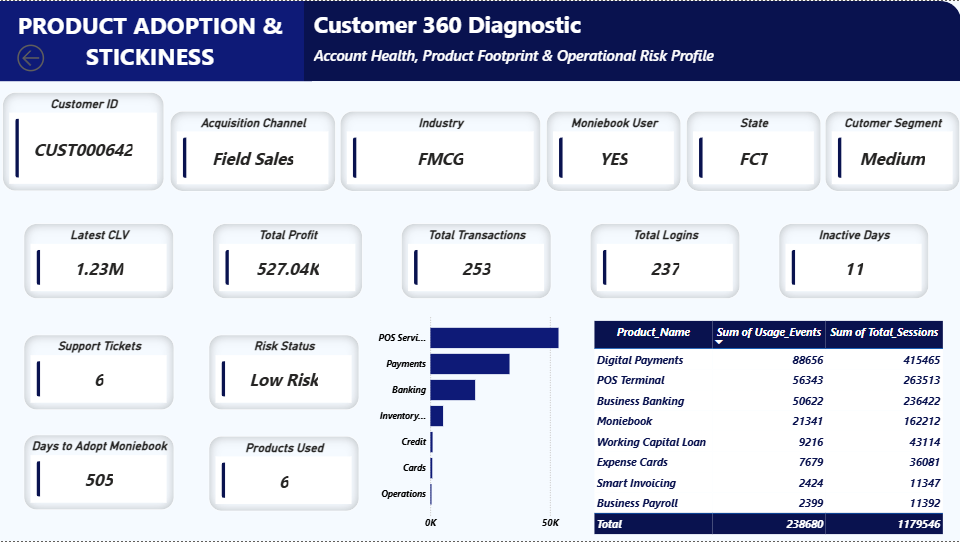

Layout of this report page (visuals, bound fields, positions):
{"tool":"powerbi","page":{"name":"Customer 360","canvas":[1920,1080],"ordinal":9},"visuals":[{"type":"group","id":"g1","title":"Group 1","box":[0,0,1921.1,160.5],"z":0},{"type":"actionButton","box":[26.8,80.3,129.7,67.9],"z":1000},{"type":"cardVisual","title":"Customer ID","fields":{"Data":["pbi_customer_360.Selected Customer ID"]},"box":[6.2,183.2,323.2,197.6],"z":2000},{"type":"cardVisual","title":"State","fields":{"Data":["pbi_customer_360.Selected State"]},"box":[1371.3,220.2,269.6,160.5],"z":3000},{"type":"cardVisual","title":"Cutomer Segment","fields":{"Data":["pbi_customer_360.Selected Customer Segment"]},"box":[1650.4,220.2,269.6,160.5],"z":4000},{"type":"cardVisual","title":"Industry","fields":{"Data":["pbi_customer_360.Selected Industry"]},"box":[680.5,220.2,401.4,160.5],"z":5000},{"type":"cardVisual","title":"Acquisition Channel","fields":{"Data":["pbi_customer_360.Selected Acquisition Channel"]},"box":[339.2,220.2,331.4,160.5],"z":6000},{"type":"cardVisual","title":"Moniebook User","fields":{"Data":["pbi_customer_360.Selected Moniebook User"]},"box":[1091.7,220.2,269.6,160.5],"z":7000},{"type":"cardVisual","title":"Latest CLV","fields":{"Data":["Sum(pbi_customer_360.Latest_CLV)"]},"box":[47.8,445.4,300,150],"z":8000},{"type":"cardVisual","title":"Inactive Days","fields":{"Data":["pbi_customer_360.Latest Inactivity Days"]},"box":[1558.2,444.6,300,150],"z":9000},{"type":"cardVisual","title":"Total Logins","fields":{"Data":["Sum(pbi_customer_360.Total_Logins)"]},"box":[1180.6,444.6,300,150],"z":10000},{"type":"cardVisual","title":"Total Transactions","fields":{"Data":["Sum(pbi_customer_360.Total_Transaction_Records)"]},"box":[803,444.6,300,150],"z":11000},{"type":"cardVisual","title":"Total Profit","fields":{"Data":["Sum(pbi_customer_360.Total_Profit)"]},"box":[425.4,444.6,300,150],"z":12000},{"type":"tableEx","fields":{"Values":["pbi_product_performance.Product_Name","Sum(pbi_product_performance.Usage_Events)","Sum(pbi_product_performance.Total_Sessions)"]},"box":[1181.5,634,710.1,446.7],"z":13000},{"type":"clusteredBarChart","fields":{"Category":["pbi_product_performance.Product_Category"],"Y":["Sum(pbi_product_performance.Feature_Failed_Transactions)"]},"box":[738.9,619.6,430.2,446.7],"z":14000},{"type":"cardVisual","title":"Support Tickets","fields":{"Data":["Sum(pbi_customer_360.Support_Tickets)"]},"box":[47.3,666.9,300.5,150.3],"z":15000},{"type":"cardVisual","title":"Days to Adopt Moniebook","fields":{"Data":["pbi_customer_360.Avg Days to Adopt Moniebook"]},"box":[47.3,868.6,300.5,150.3],"z":16000},{"type":"cardVisual","title":"Risk Status","fields":{"Data":["pbi_customer_360.Selected Risk Status"]},"box":[417.8,666.9,300.5,150.3],"z":17000},{"type":"shape","box":[0,0,622.9,160.4],"z":18000,"group":"g1"},{"type":"cardVisual","title":"Products Used","fields":{"Data":["Sum(pbi_customer_360.Latest_Products_Used)"]},"box":[417.8,870.7,300.5,150.3],"z":18000},{"type":"shape","box":[606.2,0.6,1314.6,160.4],"z":20000,"group":"g1"},{"type":"textbox","title":"PRODUCT ADOPTION & STICKINESS","box":[6.2,14.6,585.4,131.2],"z":21000,"group":"g1"},{"type":"textbox","title":"Customer 360 Diagnostic","box":[622.9,14.6,570.8,97.9],"z":22000,"group":"g1"},{"type":"textbox","title":"Account Health, Product Footprint & Operational Risk Profile","box":[622.9,87.5,1183.3,72.9],"z":23000,"group":"g1"}]}

Visuals, with their boxes in screenshot pixels (x1, y1, x2, y2), scaled from the page's 1920x1080 canvas onto the 960x542 screenshot:
"Group 1" group: {"x1": 0, "y1": 0, "x2": 959, "y2": 81}
actionButton: {"x1": 13, "y1": 40, "x2": 78, "y2": 74}
"Customer ID" cardVisual: {"x1": 3, "y1": 92, "x2": 165, "y2": 191}
"State" cardVisual: {"x1": 686, "y1": 111, "x2": 820, "y2": 191}
"Cutomer Segment" cardVisual: {"x1": 825, "y1": 111, "x2": 959, "y2": 191}
"Industry" cardVisual: {"x1": 340, "y1": 111, "x2": 541, "y2": 191}
"Acquisition Channel" cardVisual: {"x1": 170, "y1": 111, "x2": 335, "y2": 191}
"Moniebook User" cardVisual: {"x1": 546, "y1": 111, "x2": 681, "y2": 191}
"Latest CLV" cardVisual: {"x1": 24, "y1": 224, "x2": 174, "y2": 299}
"Inactive Days" cardVisual: {"x1": 779, "y1": 223, "x2": 929, "y2": 298}
"Total Logins" cardVisual: {"x1": 590, "y1": 223, "x2": 740, "y2": 298}
"Total Transactions" cardVisual: {"x1": 402, "y1": 223, "x2": 552, "y2": 298}
"Total Profit" cardVisual: {"x1": 213, "y1": 223, "x2": 363, "y2": 298}
tableEx - pbi_product_performance.Product_Name x Sum(pbi_product_performance.Usage_Events): {"x1": 591, "y1": 318, "x2": 946, "y2": 541}
clusteredBarChart - pbi_product_performance.Product_Category x Sum(pbi_product_performance.Feature_Failed_Transactions): {"x1": 369, "y1": 311, "x2": 585, "y2": 535}
"Support Tickets" cardVisual: {"x1": 24, "y1": 335, "x2": 174, "y2": 410}
"Days to Adopt Moniebook" cardVisual: {"x1": 24, "y1": 436, "x2": 174, "y2": 511}
"Risk Status" cardVisual: {"x1": 209, "y1": 335, "x2": 359, "y2": 410}
shape: {"x1": 0, "y1": 0, "x2": 311, "y2": 80}
"Products Used" cardVisual: {"x1": 209, "y1": 437, "x2": 359, "y2": 512}
shape: {"x1": 303, "y1": 0, "x2": 959, "y2": 81}
"PRODUCT ADOPTION & STICKINESS" textbox: {"x1": 3, "y1": 7, "x2": 296, "y2": 73}
"Customer 360 Diagnostic" textbox: {"x1": 311, "y1": 7, "x2": 597, "y2": 56}
"Account Health, Product Footprint & Operational Risk Profile" textbox: {"x1": 311, "y1": 44, "x2": 903, "y2": 80}
